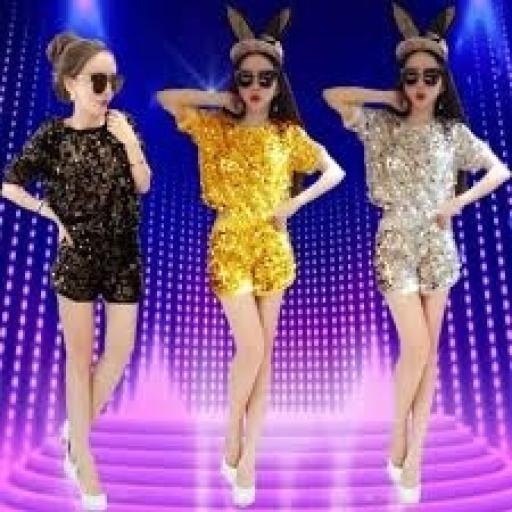dancing: (153, 4, 348, 510), (318, 0, 509, 507), (0, 30, 157, 510)
